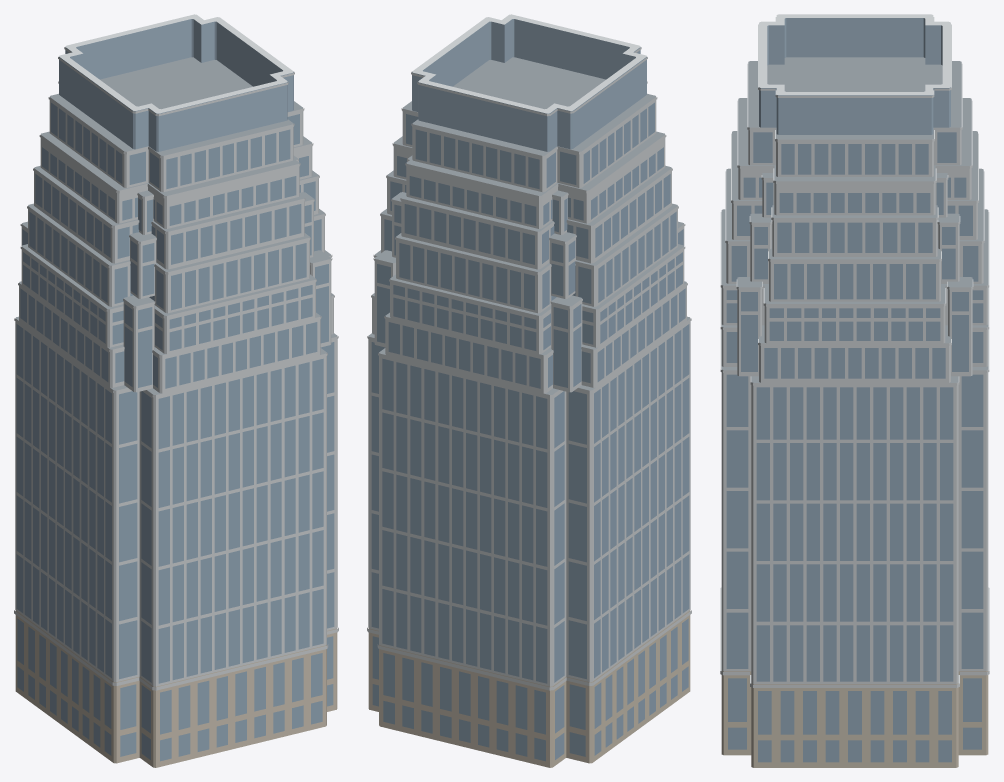
File: nash-pinnacle.glb
3 renders of one model, left to right at view 1: azimuth 30°, elevation 25°; view 2: azimuth 150°, elevation 25°; view 3: azimuth 270°, elevation 25°, orthographic. The views are drawn at different scales.
Visible parts, largest first — view 1: The Pinnacle at Symphony Place; view 2: The Pinnacle at Symphony Place; view 3: The Pinnacle at Symphony Place.
Part boxes in pixels (left/top/right/bottom): The Pinnacle at Symphony Place: left=14, top=14, right=338, bottom=767; The Pinnacle at Symphony Place: left=367, top=14, right=691, bottom=767; The Pinnacle at Symphony Place: left=720, top=14, right=989, bottom=767.
Size of the model in its own units: 49.5 by 133 by 49.5.
